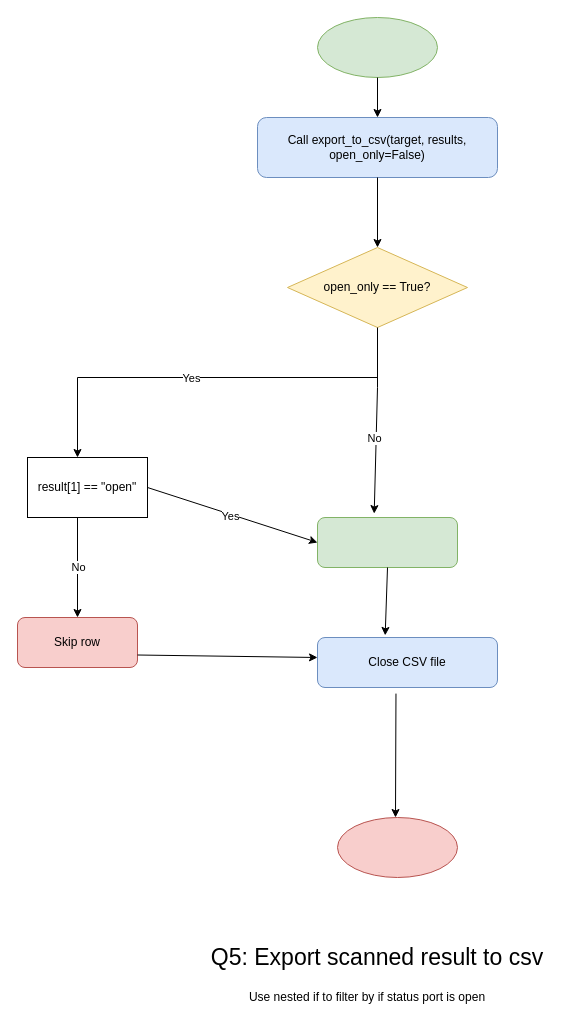
Image size: 565x1035. Some labels were removed from this diagram. The shapes that lost their labels are listed below. From the top down, each one's box as (x1, y1, x2, y2) in pixels, then its label:
(316, 16, 438, 78): START
(316, 516, 458, 568): Write row to CSV
(336, 816, 458, 878): END
